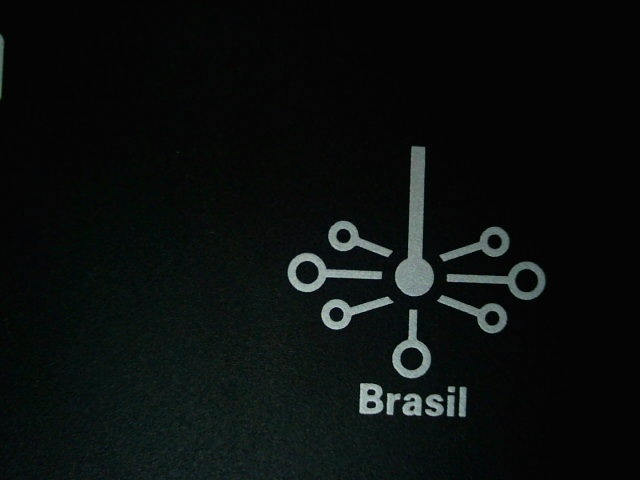BG_Brasil: (251, 118, 552, 434)
